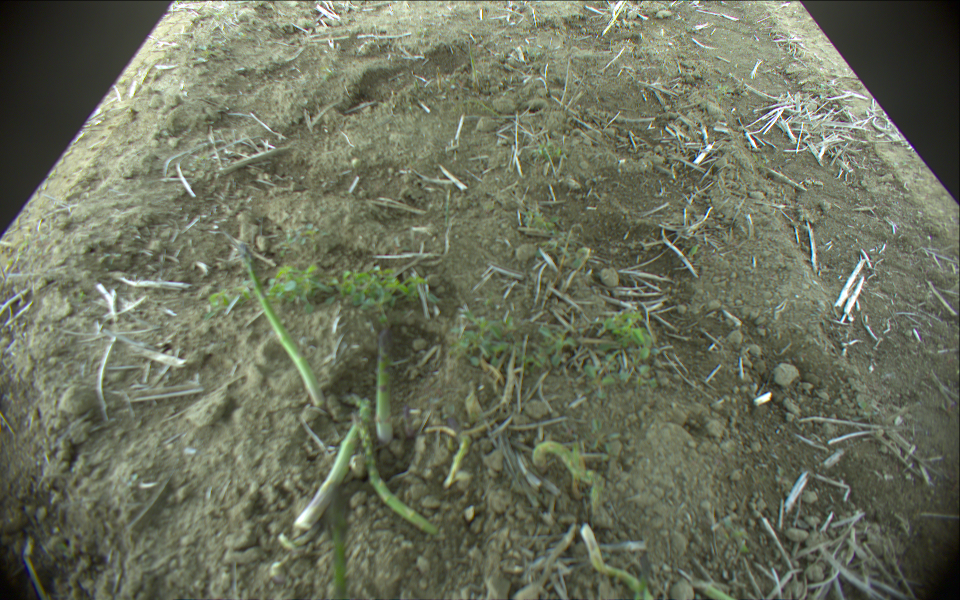aspa: (226, 235, 327, 406), (349, 412, 439, 537), (291, 419, 361, 531), (533, 439, 615, 532), (580, 526, 647, 600), (422, 423, 470, 489), (327, 482, 350, 600), (375, 329, 395, 442), (681, 573, 742, 600)
